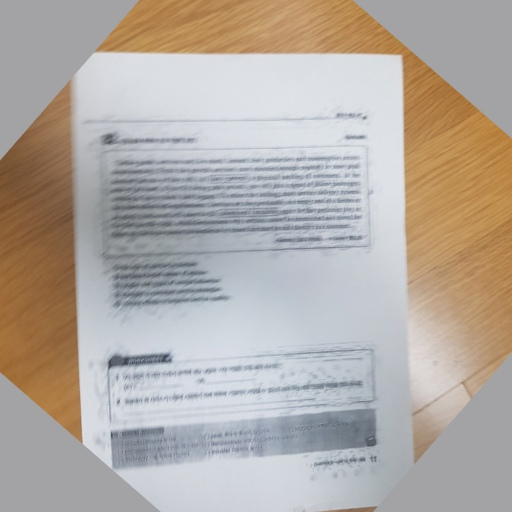Paper_2: (53, 48, 419, 512)
